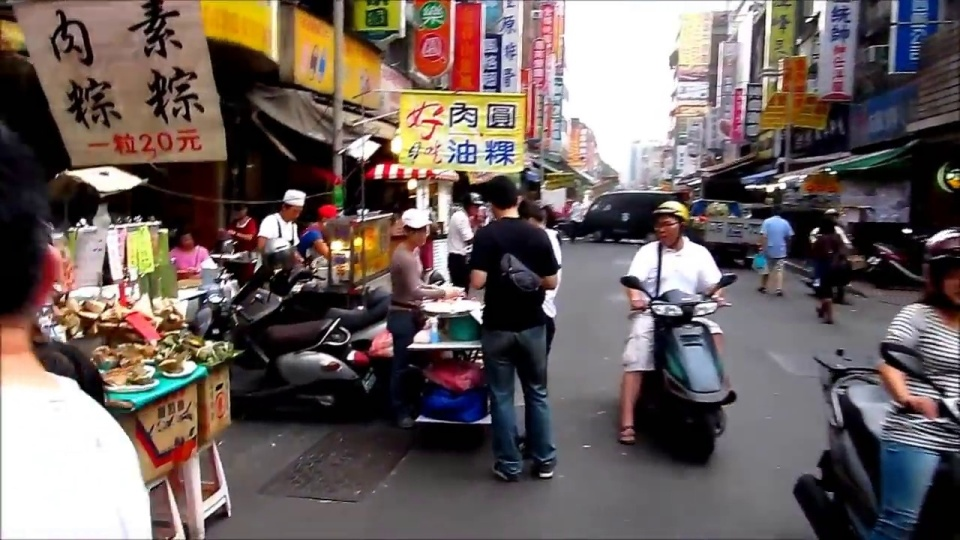person_head: (0, 126, 47, 321), (921, 225, 960, 306), (647, 202, 692, 246), (475, 172, 517, 216), (396, 205, 431, 249), (275, 185, 308, 222), (514, 201, 550, 230), (172, 228, 198, 252), (814, 221, 840, 240), (315, 202, 337, 224), (225, 202, 249, 222), (826, 205, 847, 222), (459, 195, 477, 214), (764, 207, 786, 221)
person_vbox: (0, 111, 157, 540), (614, 192, 736, 458), (470, 166, 565, 483), (875, 214, 957, 540), (506, 189, 569, 404), (386, 195, 436, 421), (800, 213, 852, 327), (748, 199, 800, 297), (256, 179, 308, 264), (445, 186, 483, 291), (158, 218, 211, 283), (811, 195, 859, 264), (210, 192, 259, 254), (300, 195, 344, 263)
